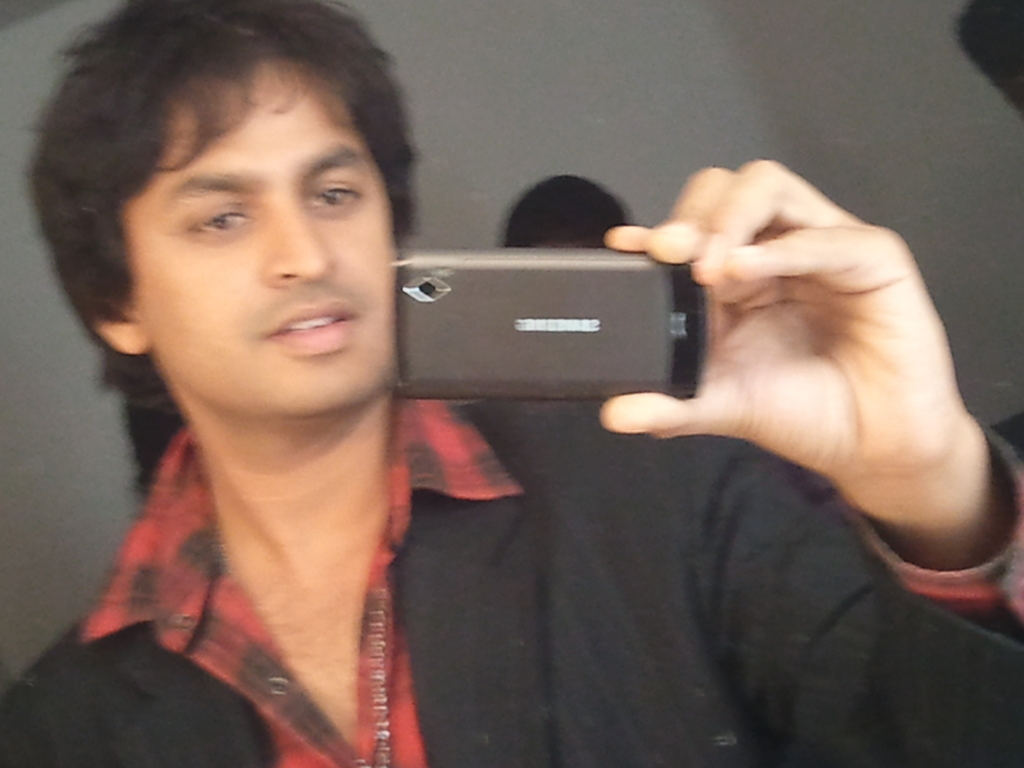Mobile-phone: (386, 239, 715, 411)
